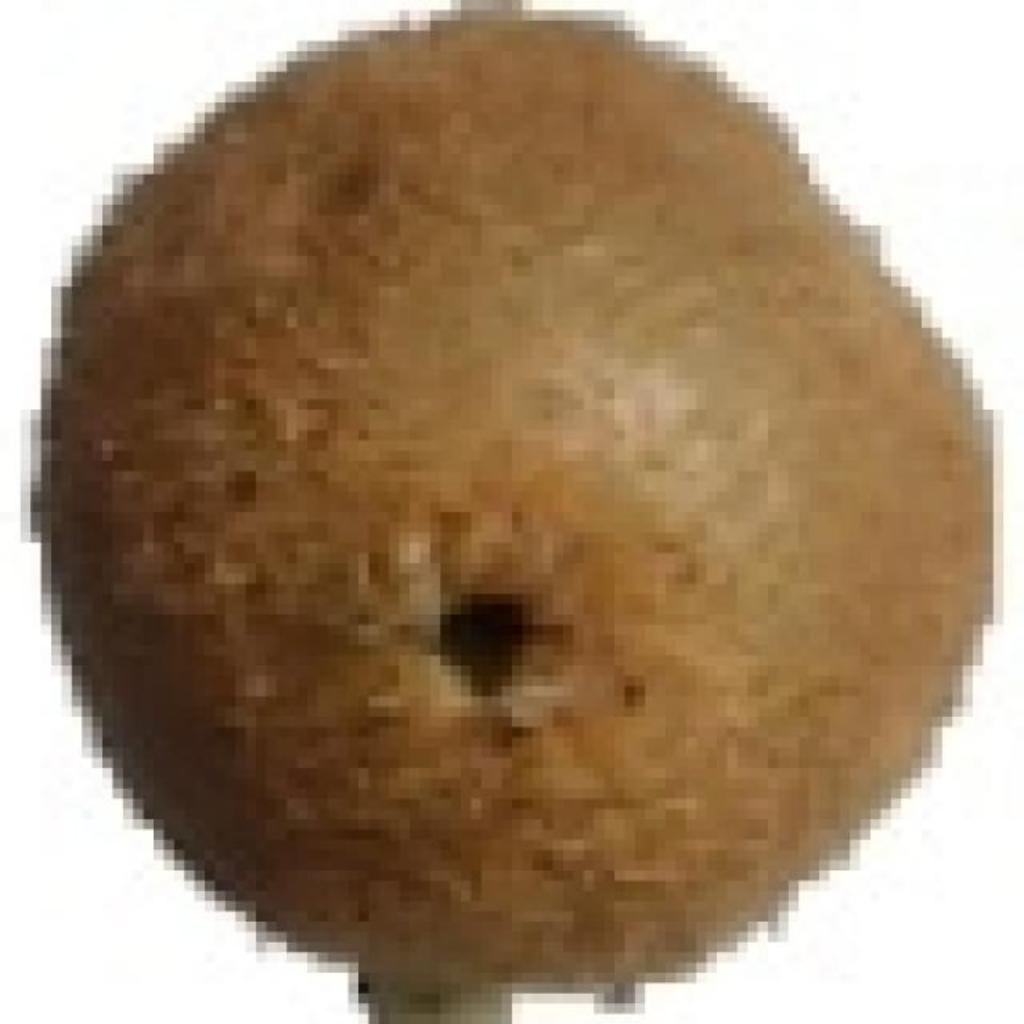kiwi: (52, 31, 994, 1024)
